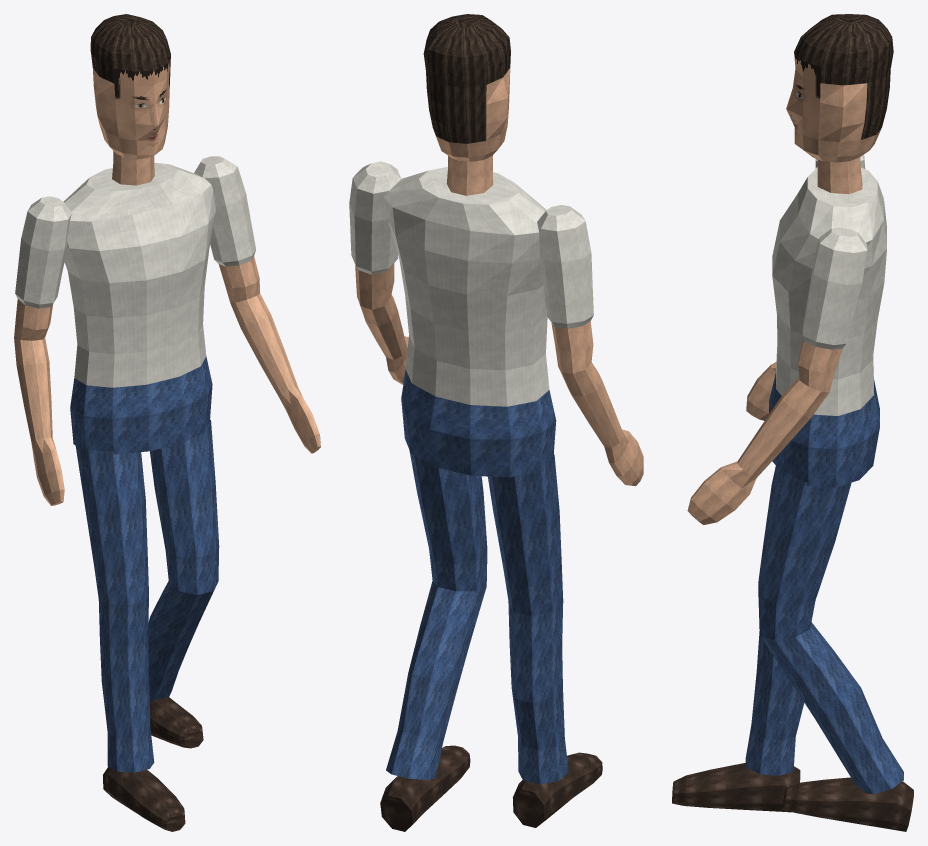
The model's file is walk_00.obj.
3 renders of one model, left to right at view 1: azimuth 30°, elevation 25°; view 2: azimuth 150°, elevation 25°; view 3: azimuth 270°, elevation 25°, orthographic. The views are drawn at different scales.
Size of the model in its own units: 0.6293 by 1.84 by 0.4998.
Materials: 25 (25 with a texture image).
